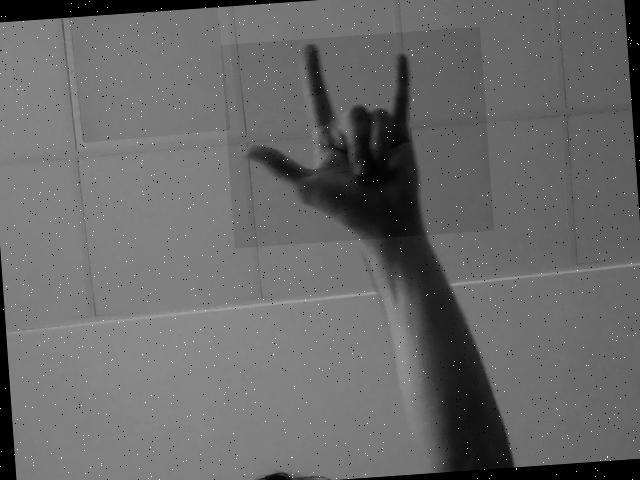I_Love_You: (220, 26, 494, 248)
